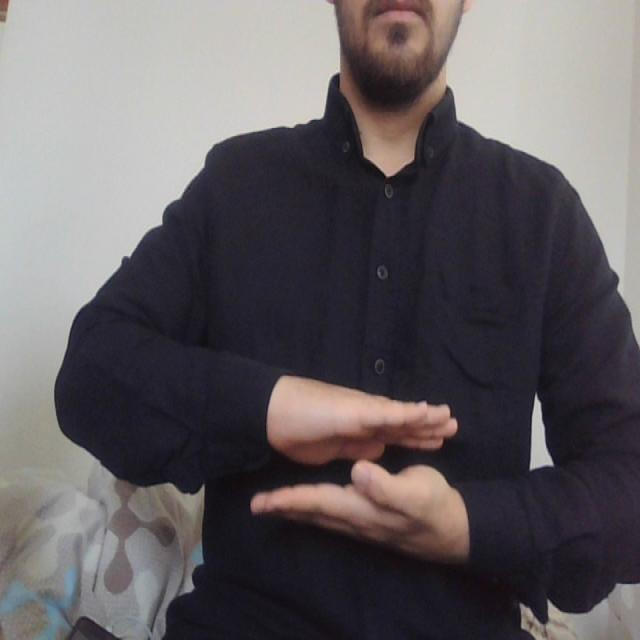Arkadas: (232, 352, 483, 555)
